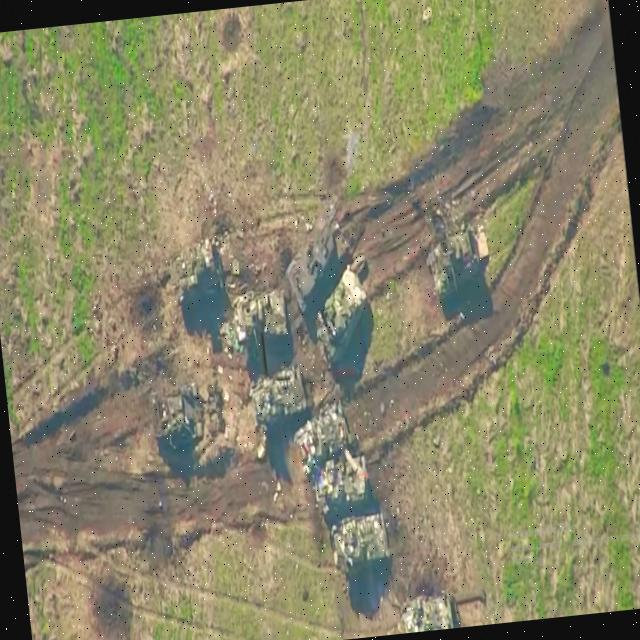AIFV: (309, 267, 377, 371), (426, 227, 496, 309), (166, 238, 228, 317), (326, 512, 392, 580), (230, 286, 292, 356), (293, 404, 353, 475), (248, 366, 310, 434), (314, 456, 372, 515), (402, 591, 456, 634)
MBT: (277, 190, 359, 323), (148, 381, 207, 452)
